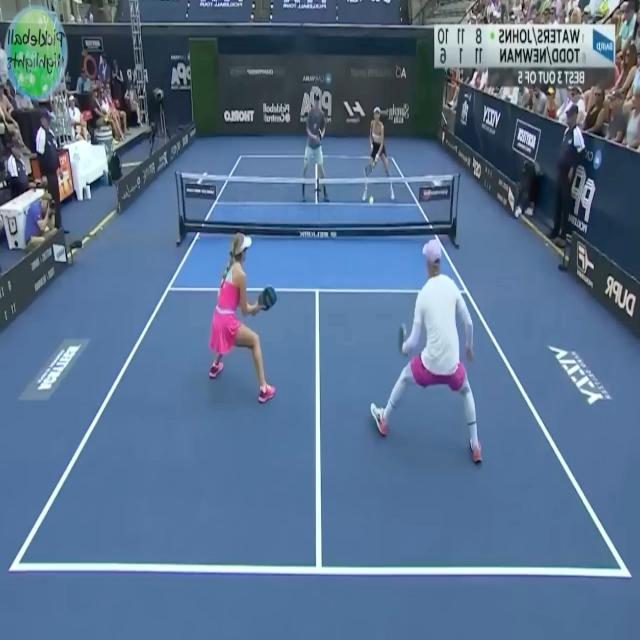Pickleball: (368, 193, 375, 206)
